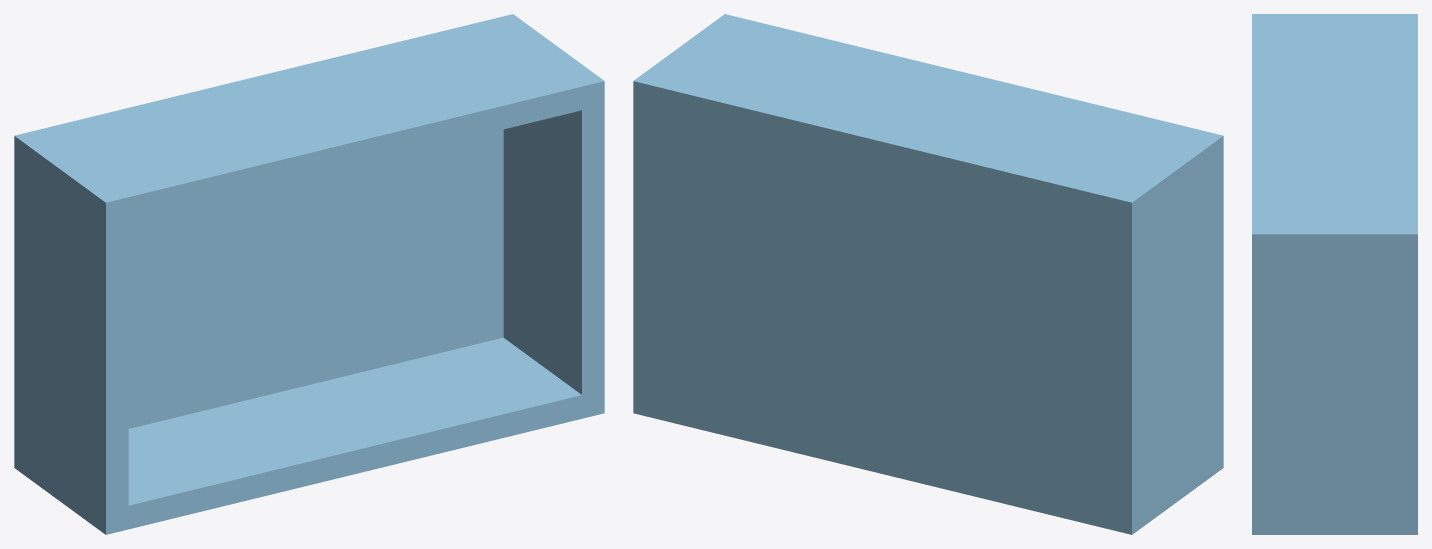
File: Piscine.obj
3 views of the same model, side by side, from view 1: azimuth 30°, elevation 25°; view 2: azimuth 150°, elevation 25°; view 3: azimuth 270°, elevation 25° (orthographic). The views are drawn at different scales.
Visible parts, largest first — view 1: mesh10, mesh1, mesh5, mesh7, mesh2, mesh8; view 2: mesh0, mesh1, mesh2; view 3: mesh4, mesh1.
Part boxes in pixels (left/top/right/bottom): mesh10: left=128, top=129, right=503, bottom=428; mesh1: left=14, top=14, right=603, bottom=202; mesh5: left=106, top=81, right=604, bottom=534; mesh7: left=128, top=337, right=581, bottom=505; mesh2: left=14, top=136, right=105, bottom=534; mesh8: left=503, top=110, right=581, bottom=394; mesh0: left=633, top=81, right=1131, bottom=534; mesh1: left=634, top=14, right=1223, bottom=202; mesh2: left=1132, top=136, right=1223, bottom=534; mesh4: left=1252, top=234, right=1417, bottom=534; mesh1: left=1252, top=14, right=1417, bottom=234.
Size of the model in its own units: 22 by 14 by 7.
